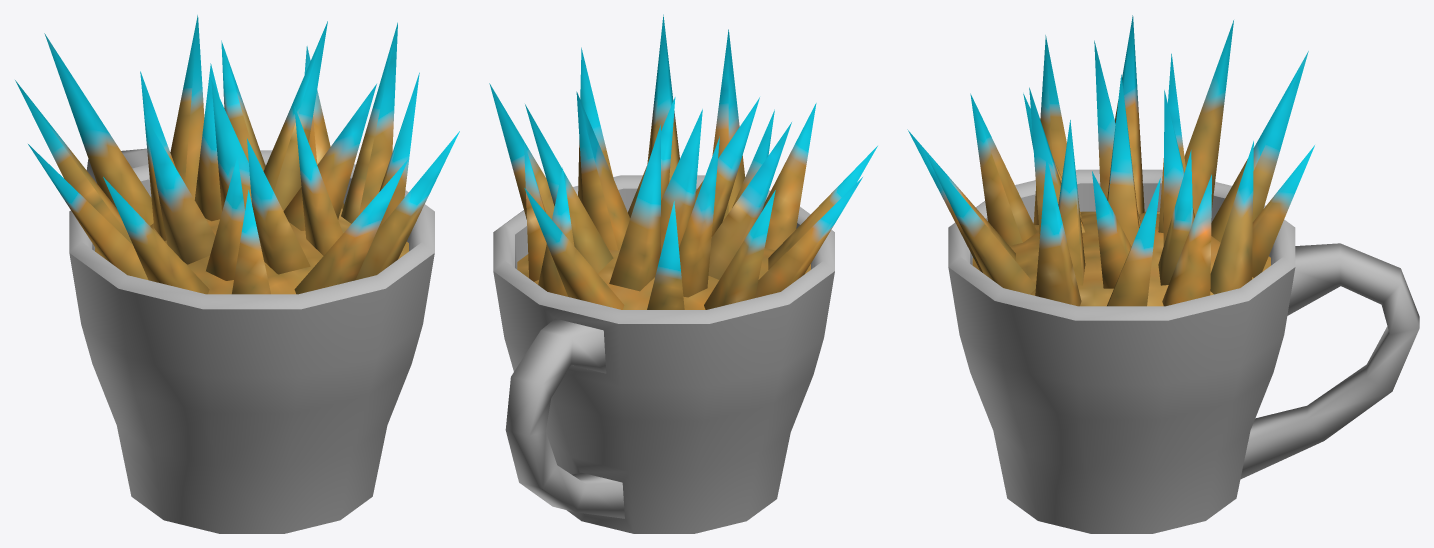
File: Americano.fbx
3 views of the same model, side by side, from view 1: azimuth 30°, elevation 25°; view 2: azimuth 150°, elevation 25°; view 3: azimuth 270°, elevation 25° (orthographic). The views are drawn at different scales.
Visible parts, largest first — view 1: Americano; view 2: Americano; view 3: Americano.
Boxes of the visible parts, bbox=[...] form: Americano: bbox=[15, 15, 459, 533]; Americano: bbox=[489, 14, 877, 533]; Americano: bbox=[907, 15, 1419, 533].
Size of the model in its own units: 13.83 by 14.2 by 16.74.
